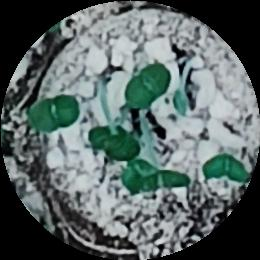Basil: (125, 64, 172, 109), (29, 95, 84, 131), (117, 166, 189, 193), (89, 126, 140, 161), (200, 153, 258, 183)
